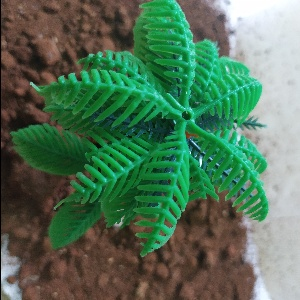plant: (31, 9, 266, 235)
